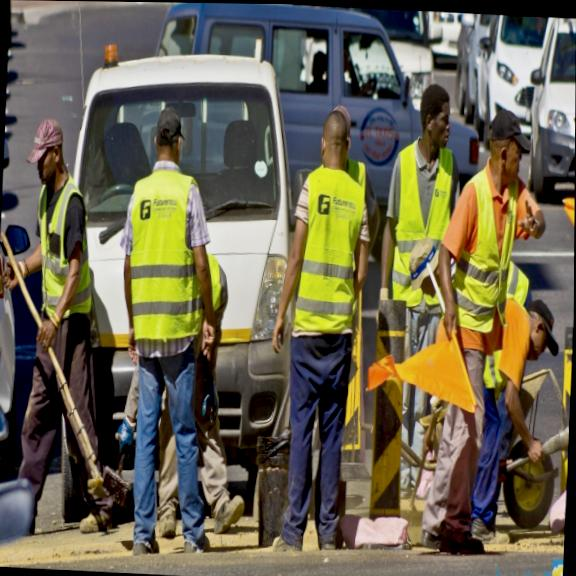safety_vest: (125, 170, 200, 338), (300, 168, 362, 338), (388, 153, 449, 308), (458, 178, 516, 340), (393, 147, 449, 310), (34, 188, 95, 318)
